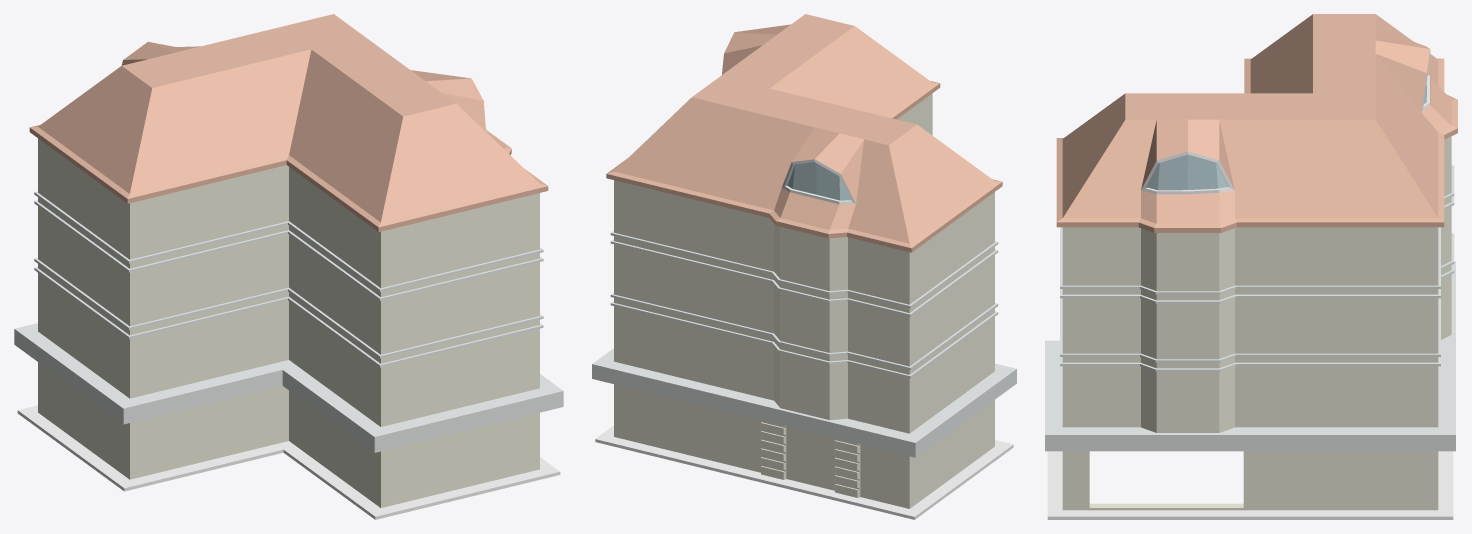
The model's file is Building_facad.fbx.
The picture shows the model from 3 angles, left to right: view 1: azimuth 30°, elevation 25°; view 2: azimuth 150°, elevation 25°; view 3: azimuth 270°, elevation 25°; orthographic projection. The views are drawn at different scales.
Parts seen in each view (by area): view 1: Building_facad; view 2: Building_facad; view 3: Building_facad.
Part boxes in pixels (box(x1,y1,x2,y2)): Building_facad: box(14, 14, 563, 519); Building_facad: box(592, 14, 1016, 519); Building_facad: box(1045, 14, 1457, 519).
Size of the model in its own units: 4183 by 4108 by 4185.
